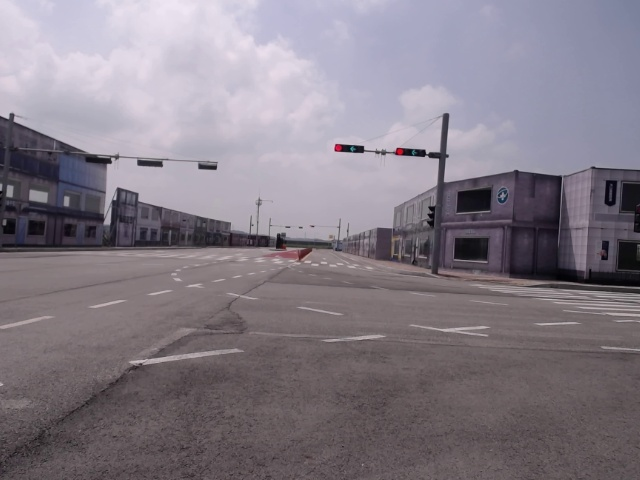left_green_4: (335, 144, 364, 154), (396, 148, 425, 157)
